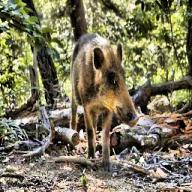boar: (68, 32, 139, 172)
